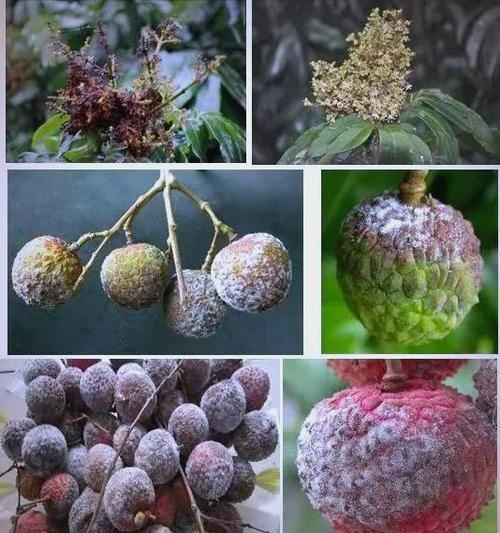Frost_Blight: (86, 360, 270, 461), (303, 409, 448, 516), (47, 454, 256, 524), (365, 185, 473, 271), (10, 364, 83, 476), (60, 55, 150, 143), (350, 66, 413, 124), (223, 260, 280, 314), (102, 474, 153, 526), (185, 281, 226, 340), (14, 254, 55, 308), (194, 448, 227, 506), (137, 426, 179, 469)
